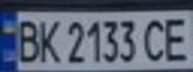1: (84, 17, 103, 63)
2: (63, 17, 87, 64)
3: (118, 16, 142, 63), (100, 17, 121, 64)
B: (9, 16, 42, 64)
C: (139, 15, 172, 63)
E: (160, 14, 193, 63)
K: (33, 16, 63, 64)
